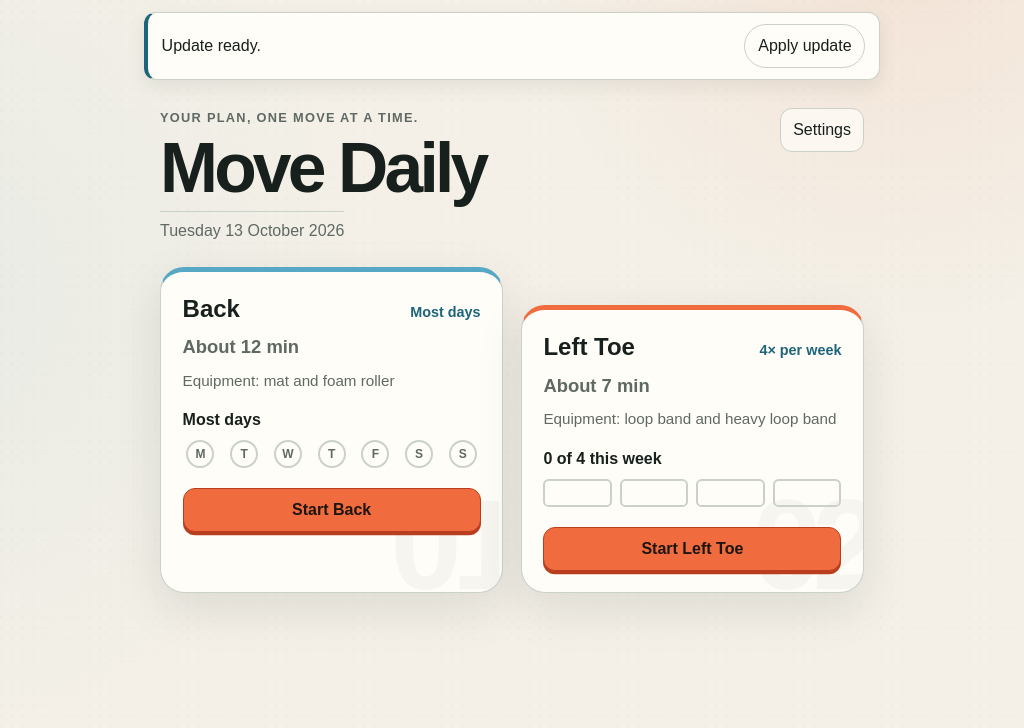
App › buffers an early update, withholds apply during Player, and restores it after deliberate exit
Expected: the text "Update ready." is shown, [162,34,261,58]
Expected: the button "Apply update" is shown, [744,24,865,68]
Click the button "Start Back" at (332, 510), box [183,488,481,532]
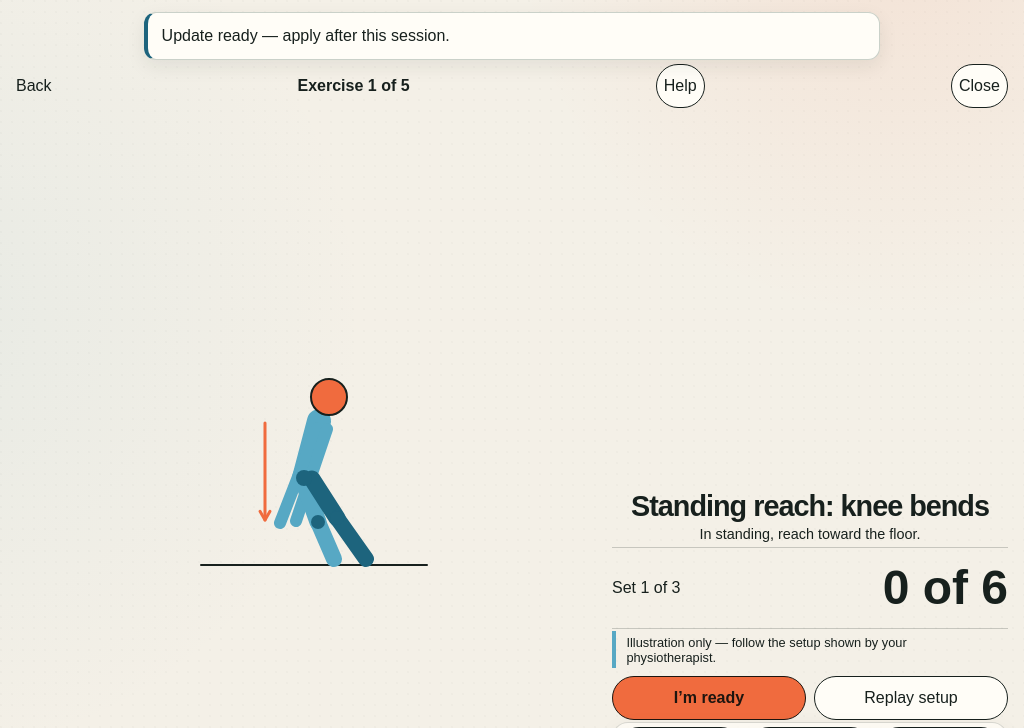
Expected: the text "Update ready — apply after this session." is shown, [144,12,880,60]
Expected: the button "Apply update" is gone
Click the button with aria-label "Close session" at (979, 86), box [951,64,1008,108]
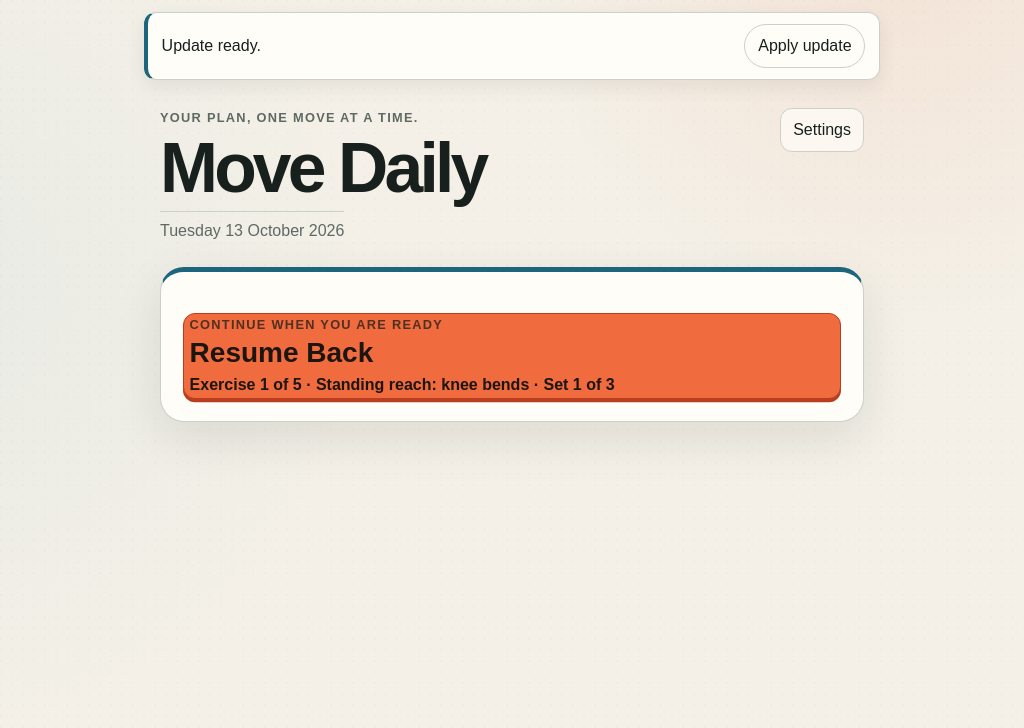
Expected: the button "Resume Back" is shown, [183,313,841,399]
Expected: the button "Apply update" is shown, [744,24,865,68]
